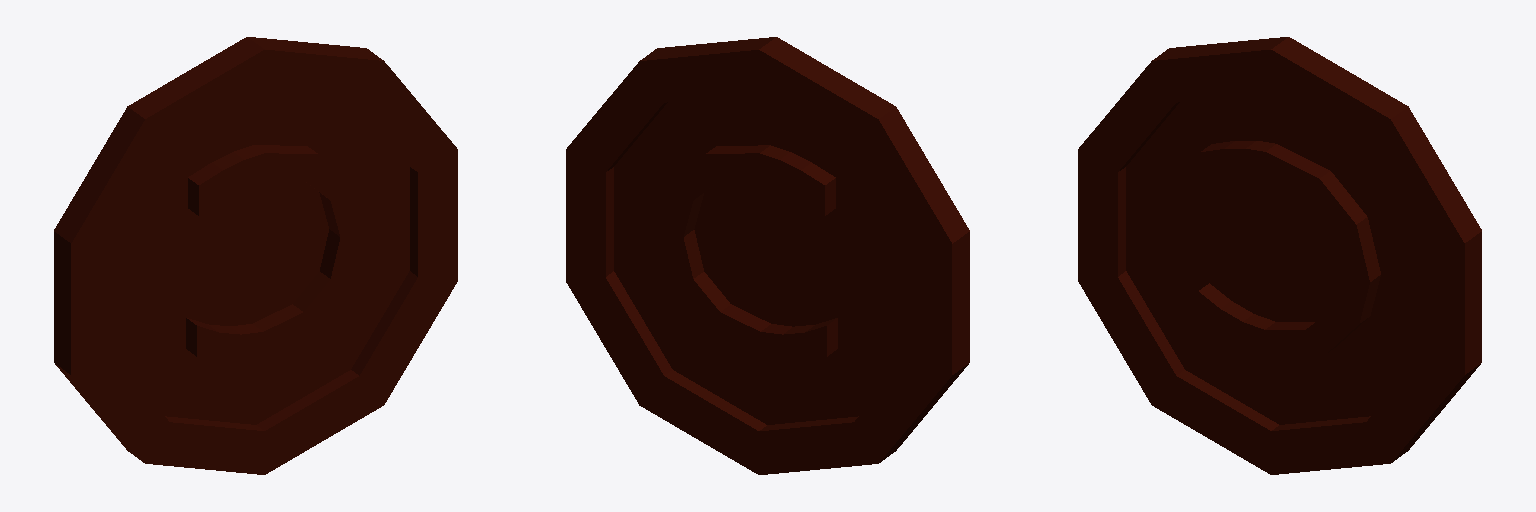
The model's file is CooperCoin.obj.
3 renders of one model, left to right at view 1: azimuth 30°, elevation 25°; view 2: azimuth 150°, elevation 25°; view 3: azimuth 330°, elevation 25°, orthographic.
Parts seen in each view (by area): view 1: CooperCoin_Circle.001; view 2: CooperCoin_Circle.001; view 3: CooperCoin_Circle.001.
Part boxes in pixels (bbox=[...]): CooperCoin_Circle.001: bbox=[54, 37, 457, 474]; CooperCoin_Circle.001: bbox=[566, 37, 969, 474]; CooperCoin_Circle.001: bbox=[1078, 37, 1481, 474].
Size of the model in its own units: 6.37 by 6.7 by 0.6442.